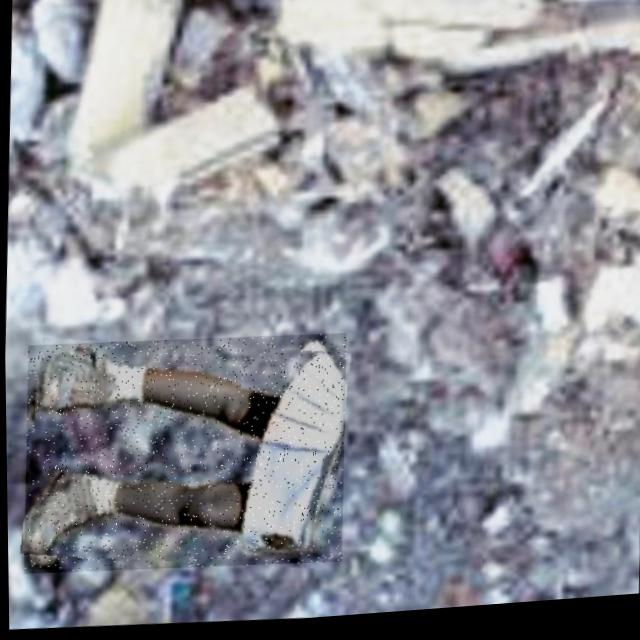Person in Rubble: (18, 327, 347, 585)
